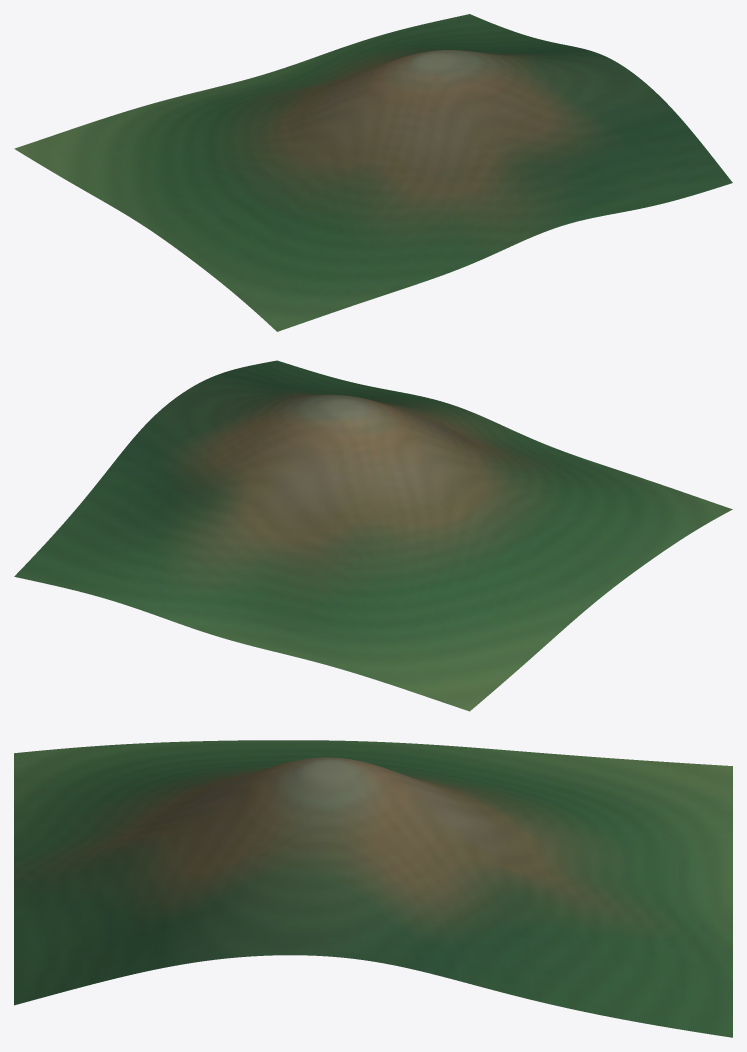
File: terrain_T_W01_N06.glb
The picture shows the model from 3 angles, top to bottom: view 1: azimuth 30°, elevation 25°; view 2: azimuth 150°, elevation 25°; view 3: azimuth 270°, elevation 25°; orthographic projection. The views are drawn at different scales.
Visible parts, largest first — view 1: Terrain_T_W01_N06; view 2: Terrain_T_W01_N06; view 3: Terrain_T_W01_N06.
Boxes of the visible parts, x1,y1,x2,y2 form: Terrain_T_W01_N06: (14, 14, 732, 331); Terrain_T_W01_N06: (14, 360, 732, 711); Terrain_T_W01_N06: (14, 740, 732, 1037).
Bounding box in the file's own units: 2000 × 546 × 2000.
1 material, 1 textured.
